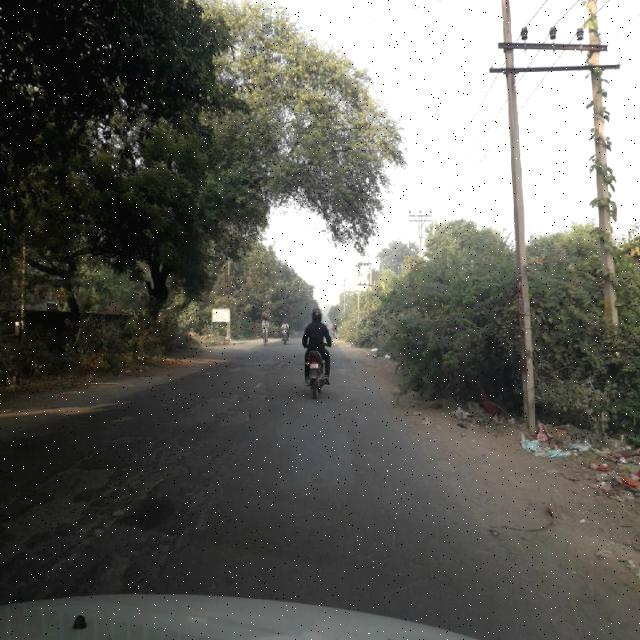D40: (5, 438, 233, 590), (159, 380, 266, 431)
